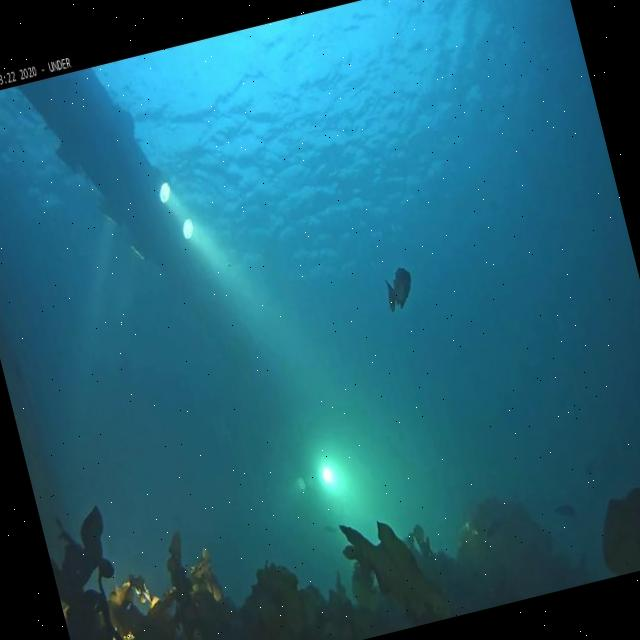fish: (381, 264, 418, 312), (482, 512, 511, 542), (554, 503, 577, 522)
